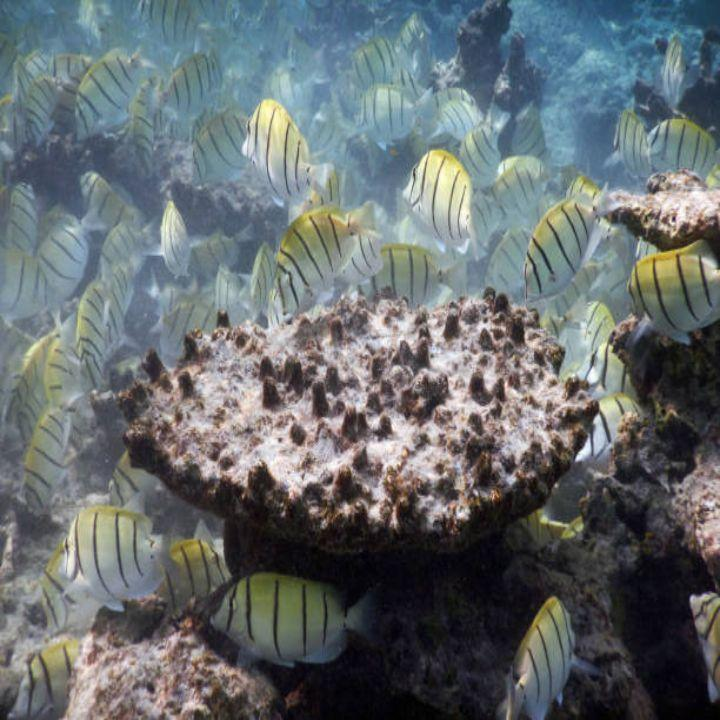Dead Coral: (96, 244, 643, 608)
